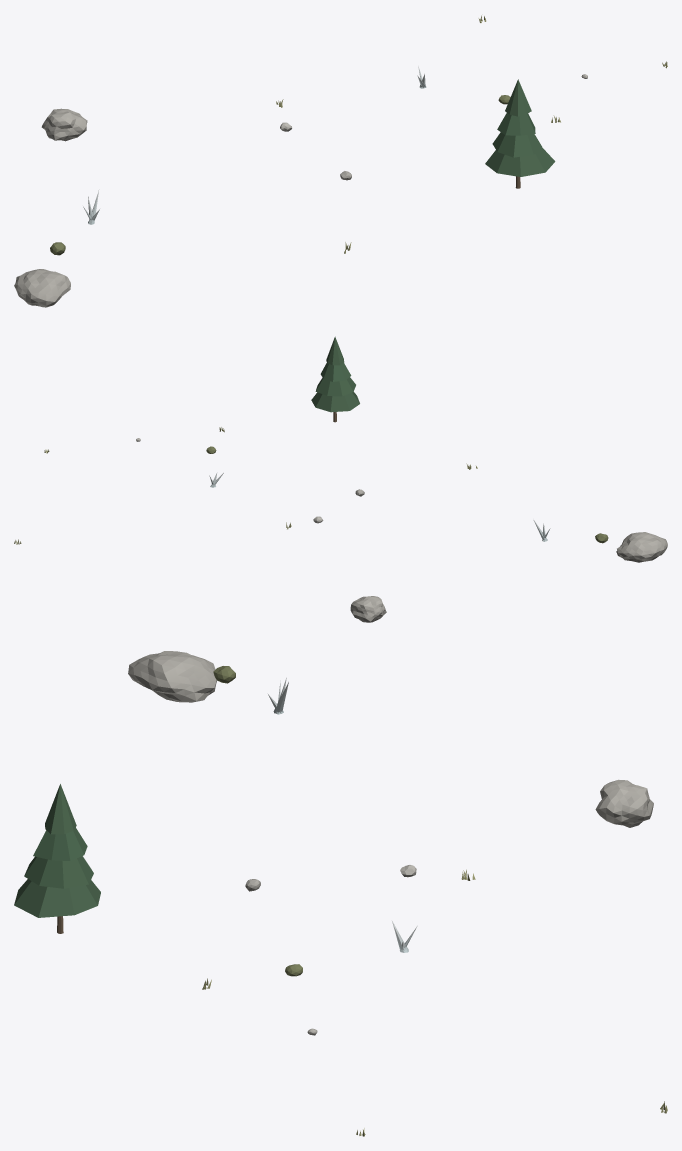
File: coast_land_scatter_c11_24.glb
3 renders of one model, top to bottom at view 1: azimuth 30°, elevation 25°; view 2: azimuth 150°, elevation 25°; view 3: azimuth 270°, elevation 25°, orthographic. The views are drawn at different scales.
Visible parts, largest first — view 1: coast_land_scatter_c11_24; view 2: coast_land_scatter_c11_24; view 3: coast_land_scatter_c11_24.
Boxes of the visible parts, x1,y1,x2,y2 form: coast_land_scatter_c11_24: (14,15,667,307); coast_land_scatter_c11_24: (14,336,667,622); coast_land_scatter_c11_24: (14,651,667,1136).
Size of the model in its own units: 81.99 by 16.5 by 47.13.
